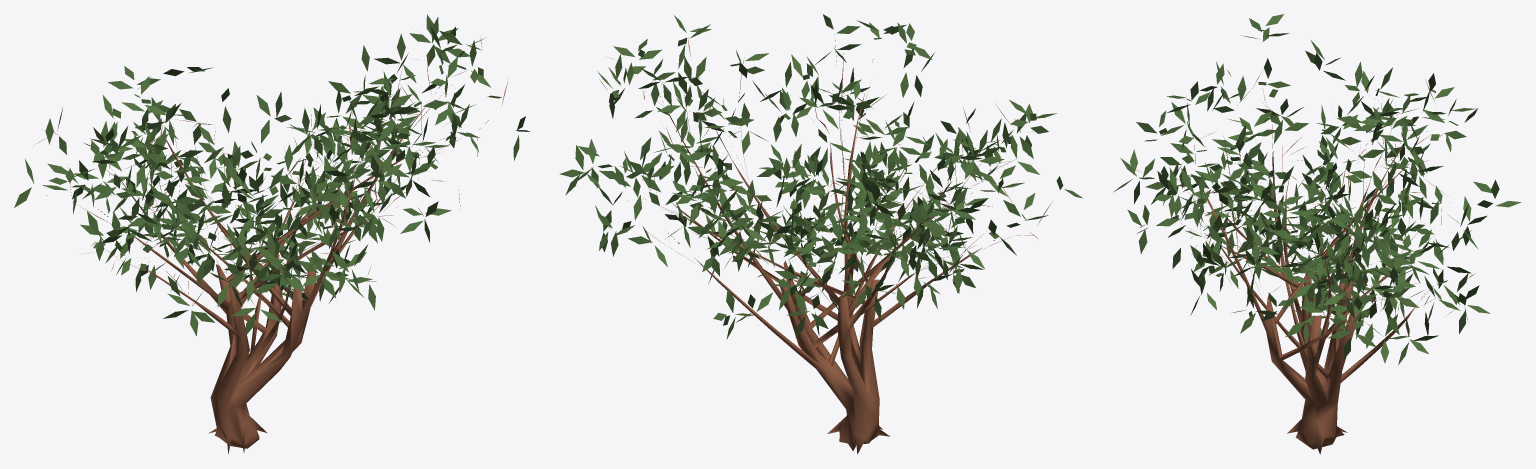
Rendered from Arbousier_2_Niveau2.fbx.
3 renders of one model, left to right at view 1: azimuth 30°, elevation 25°; view 2: azimuth 150°, elevation 25°; view 3: azimuth 270°, elevation 25°, orthographic. The views are drawn at different scales.
Visible parts, largest first — view 1: Arbousier_2_Niveau2; view 2: Arbousier_2_Niveau2; view 3: Arbousier_2_Niveau2.
Boxes of the visible parts, x1,y1,x2,y2 form: Arbousier_2_Niveau2: (14,14,530,453); Arbousier_2_Niveau2: (559,14,1082,454); Arbousier_2_Niveau2: (1114,14,1520,454).
Bounding box in the file's own units: 329 × 261 × 262.
